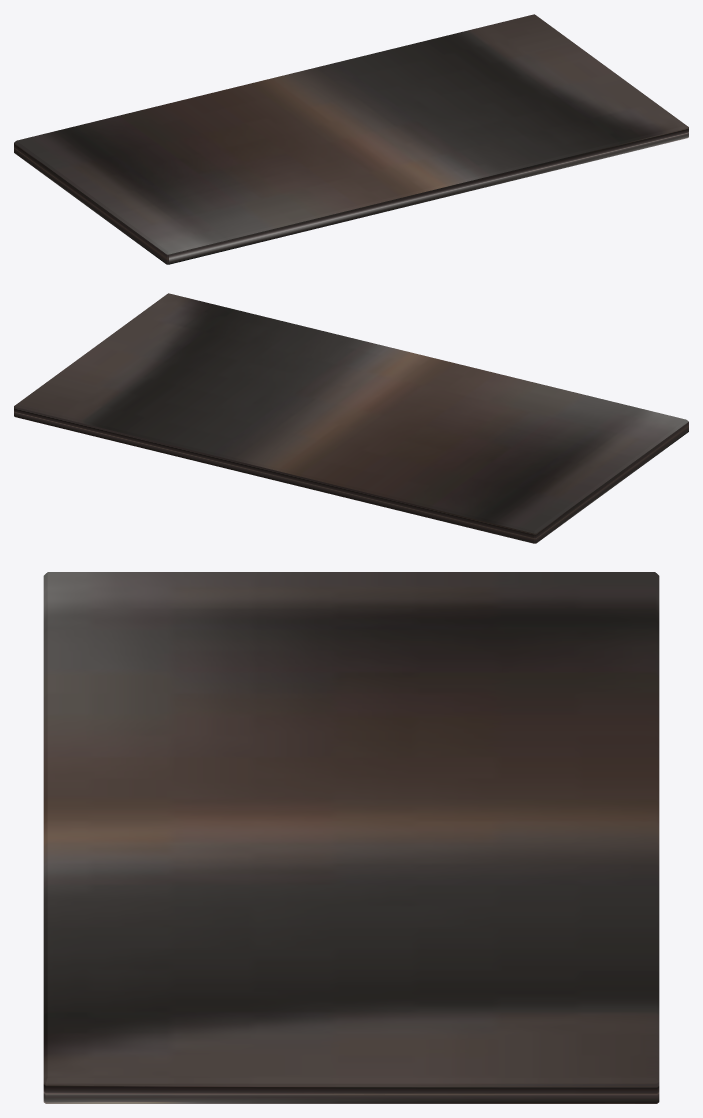
The model's file is table_top.glb.
3 views of the same model, one above another, from view 1: azimuth 30°, elevation 25°; view 2: azimuth 150°, elevation 25°; view 3: azimuth 270°, elevation 25° (orthographic). The views are drawn at different scales.
Parts seen in each view (by area): view 1: couch_table.top; view 2: couch_table.top; view 3: couch_table.top.
Part boxes in pixels (x1,y1,x2,y2): couch_table.top: (14,14,688,264); couch_table.top: (14,293,688,543); couch_table.top: (43,572,659,1103).
Size of the model in its own units: 1.59 by 0.0352 by 0.8133.
